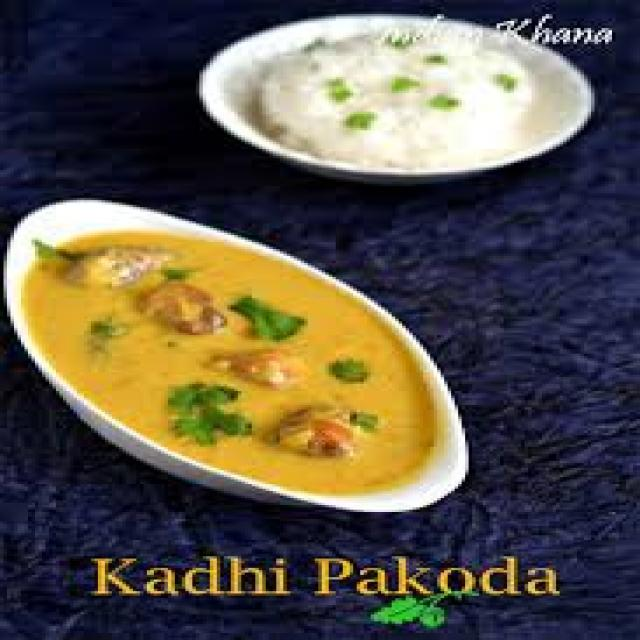Kadhi Pakora: (16, 225, 442, 495)
